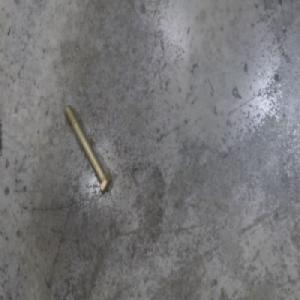Bolt: (63, 103, 112, 195)
